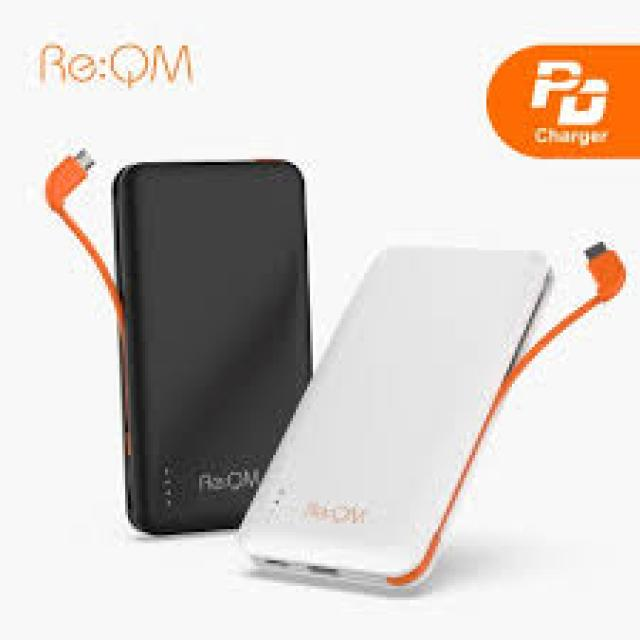portable-charger: (238, 246, 558, 594), (112, 158, 316, 538)
